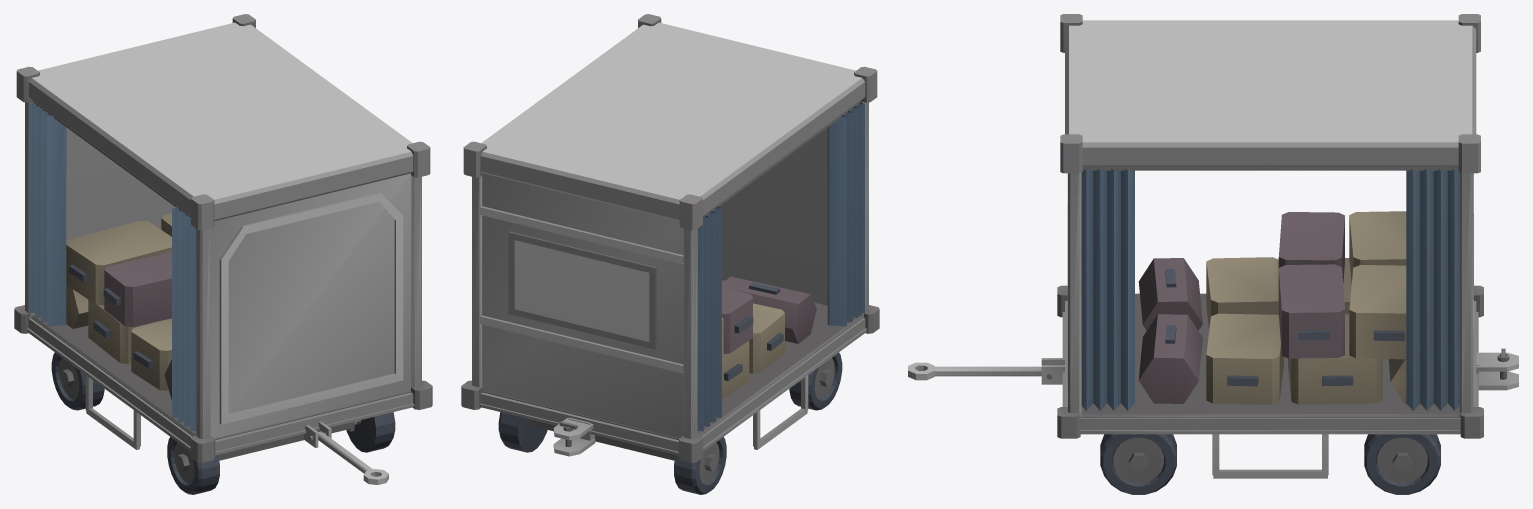
File: cart.glb
3 renders of one model, left to right at view 1: azimuth 30°, elevation 25°; view 2: azimuth 150°, elevation 25°; view 3: azimuth 270°, elevation 25°, orthographic. The views are drawn at different scales.
Visible parts, largest first — view 1: cart; view 2: cart; view 3: cart.
Part boxes in pixels (<box>): cart: <box>14,14,432,494</box>; cart: <box>461,14,879,494</box>; cart: <box>908,14,1518,494</box>.
Size of the model in its own units: 1.6 by 2.07 by 3.15.
